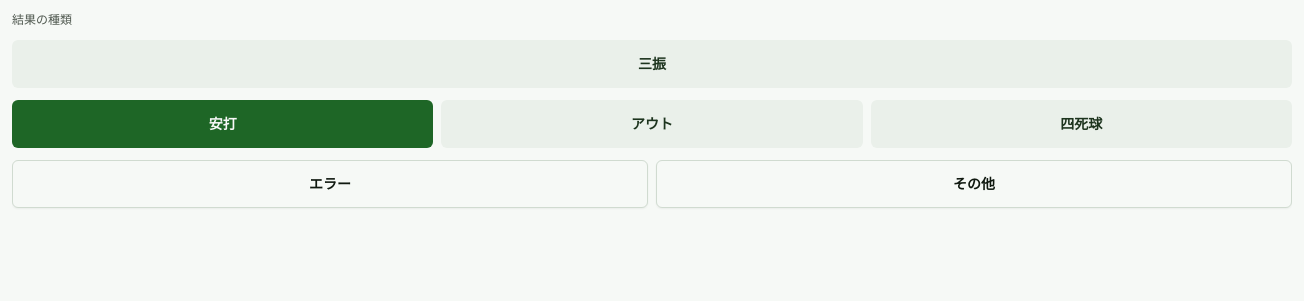
Test: scoring UI flows › disables double-play input without a runner on first
The width and height of the screenshot is (1304, 301).
What coordinates should you click on to do the following:
click the button "アウト"
I would click on:
 (652, 124)
Its box is [441, 100, 863, 148].
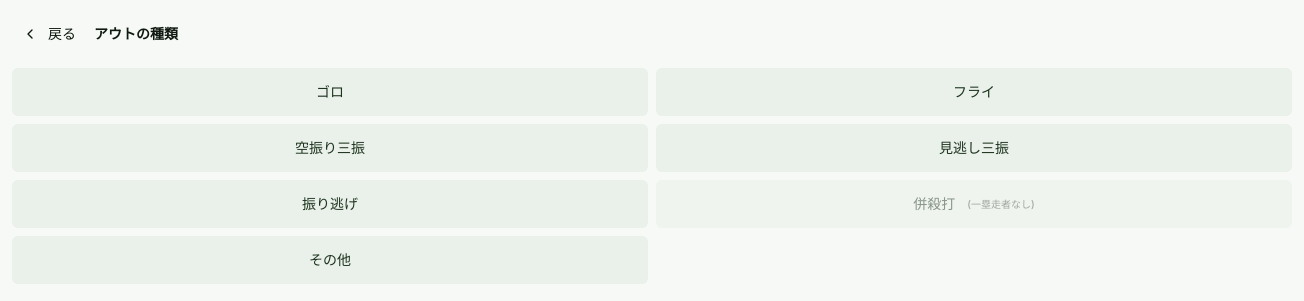
Check: the button "併殺打 (一塁走者なし)" is disabled, box [656, 180, 1292, 228]
